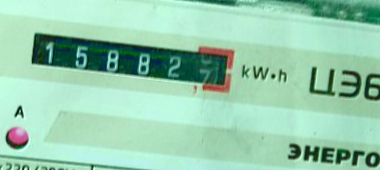1: (42, 40, 57, 67)
2: (165, 55, 184, 81)
5: (73, 44, 90, 72)
7: (196, 67, 213, 86)
8: (104, 48, 123, 75), (135, 52, 153, 79)
screen: (20, 21, 244, 104)
